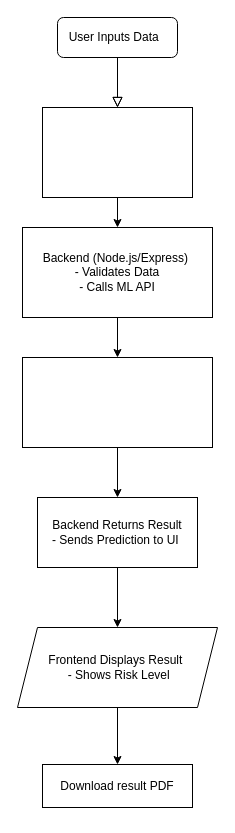
Image size: 235x833. Some labels were removed from this diagram. The shapes that lost their labels are listed below. From the top down, each one's centre as x and y in pixels, then its label:
[117,152]: Frontend (React.js) - UI Form - Handles Input
[117,402]: ML Model API (FastAPI) - Loads XGBoost Model - Predicts Heart Disease
